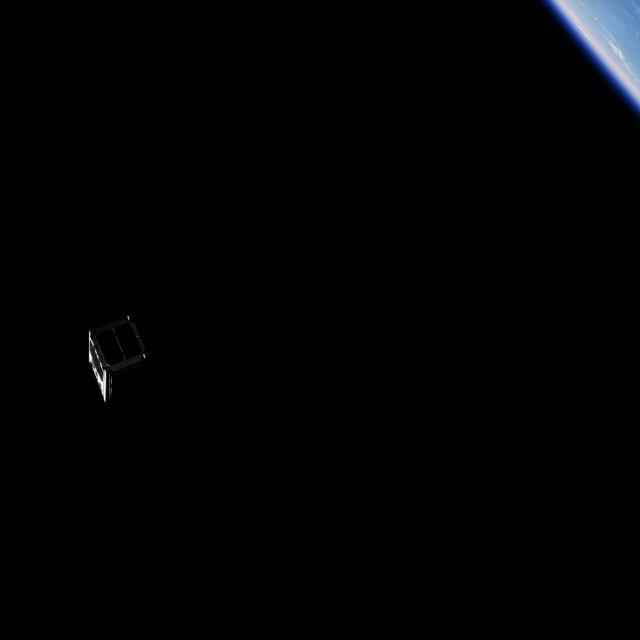medium_debris: (84, 309, 148, 402)
